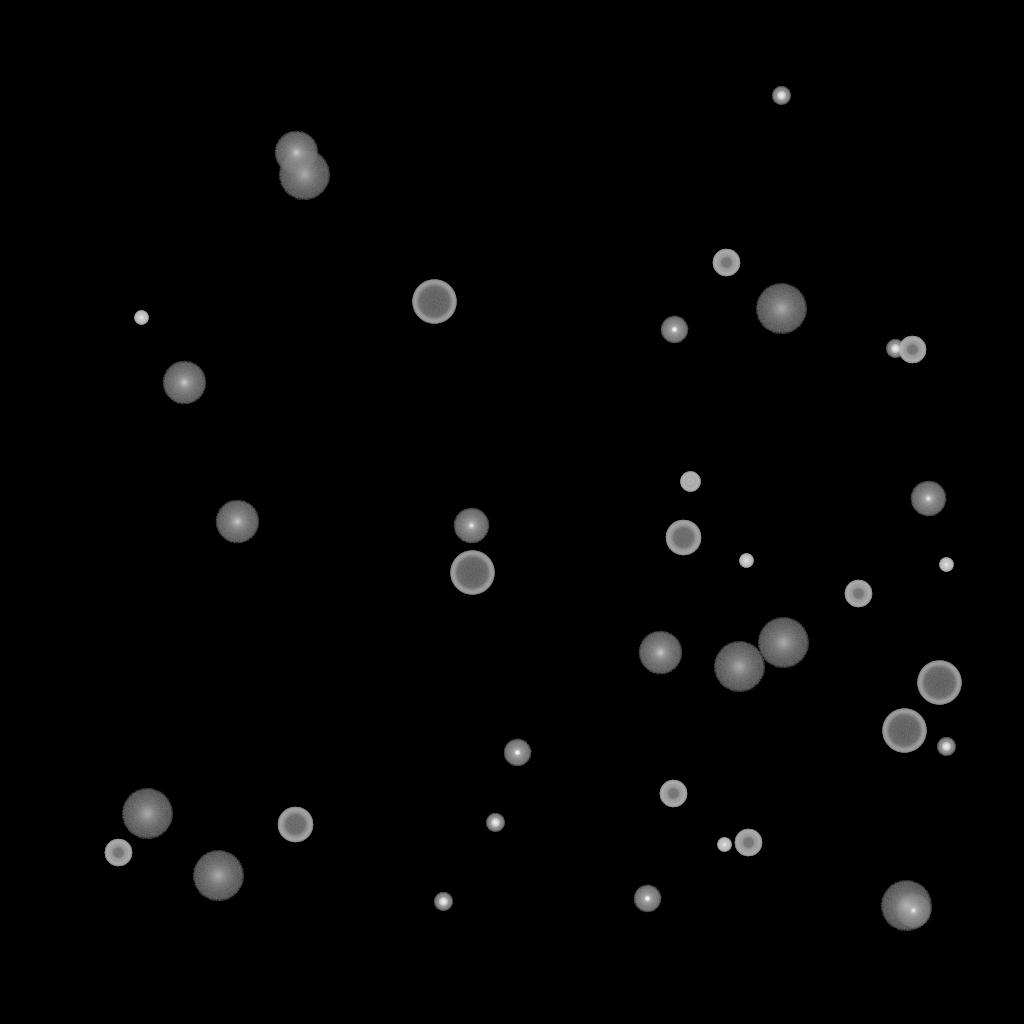depth:-10: (503, 739, 531, 767), (633, 885, 661, 913), (660, 316, 688, 344)
depth:-20: (937, 738, 955, 756), (434, 893, 452, 911), (886, 340, 904, 358), (772, 87, 790, 105), (486, 814, 504, 832)
depth:-30: (134, 311, 148, 325), (717, 838, 731, 852), (939, 558, 953, 572), (739, 554, 753, 568)
depth:-40: (680, 472, 700, 492)
depth:-50: (734, 829, 762, 857), (844, 580, 872, 608), (104, 839, 132, 867), (659, 780, 687, 808), (898, 336, 926, 364), (712, 249, 740, 277)
depth:-60: (665, 520, 701, 556), (277, 807, 313, 843)
depth:-70: (917, 661, 961, 705), (450, 551, 494, 595), (882, 709, 926, 753), (412, 280, 456, 324)
depth:0: (895, 893, 931, 929), (910, 481, 946, 517), (453, 508, 489, 544)
depth:10: (162, 361, 206, 405), (638, 631, 682, 675), (215, 500, 259, 544), (274, 131, 318, 175)
depth:20: (121, 789, 173, 839), (278, 150, 330, 200), (713, 642, 765, 692), (757, 618, 809, 668), (192, 851, 244, 901), (755, 284, 807, 334), (880, 881, 932, 931)
